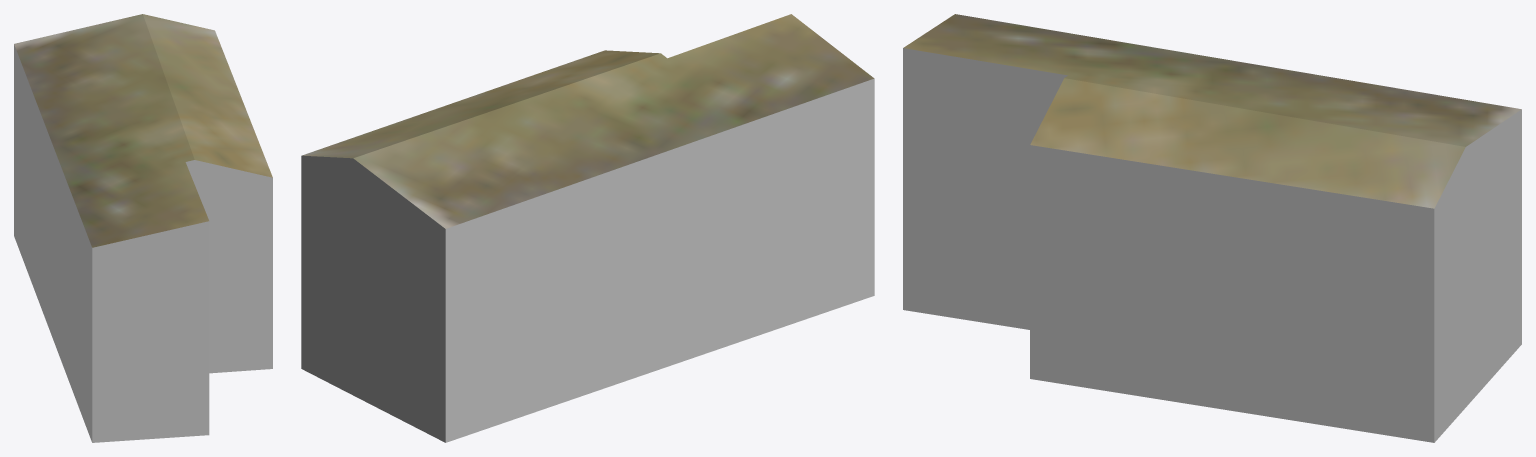
File: DEBW_0010007Tx9M.gltf
3 renders of one model, left to right at view 1: azimuth 30°, elevation 25°; view 2: azimuth 150°, elevation 25°; view 3: azimuth 270°, elevation 25°, orthographic. The views are drawn at different scales.
Visible parts, largest first — view 1: Z_UP; view 2: Z_UP; view 3: Z_UP.
Part boxes in pixels (x1=…): Z_UP: x1=14, y1=14, x2=272, y2=442; Z_UP: x1=301, y1=14, x2=874, y2=442; Z_UP: x1=903, y1=14, x2=1521, y2=442.
Bounding box in the file's own units: 6.48 × 4.17 × 8.91.
2 materials, 1 textured.
